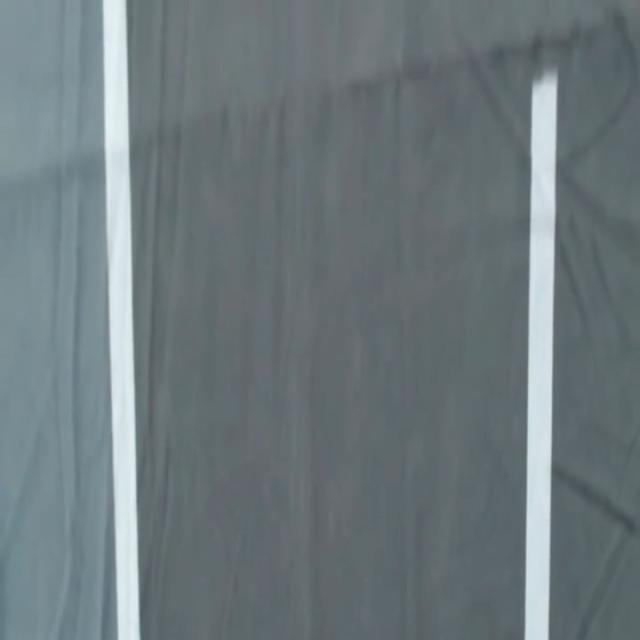center: (524, 67, 556, 639)
left: (102, 0, 139, 639)
